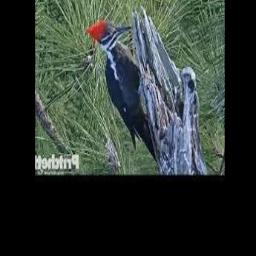Woodpecker: (87, 20, 159, 165)
